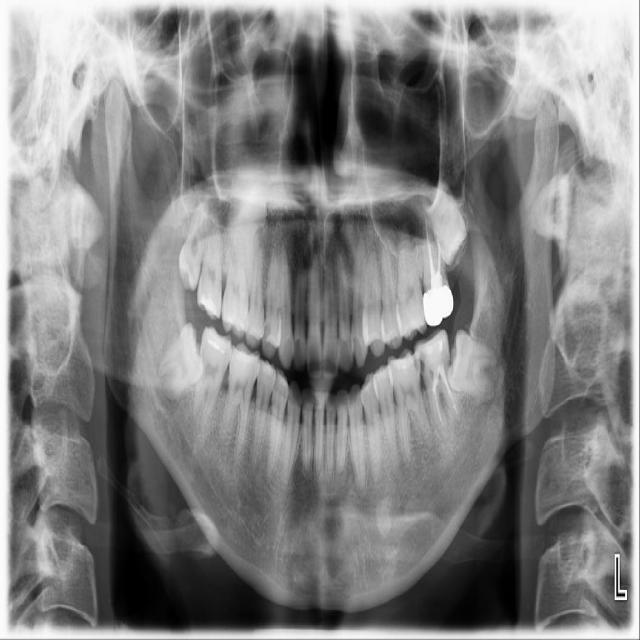Crown: (423, 278, 453, 327)
Filling: (415, 331, 450, 374), (203, 329, 230, 357)
Root Canal Treatment: (426, 220, 437, 275), (443, 372, 456, 416), (434, 377, 443, 426), (434, 232, 442, 275)
impacted tooth: (156, 323, 203, 398), (452, 333, 500, 403)
